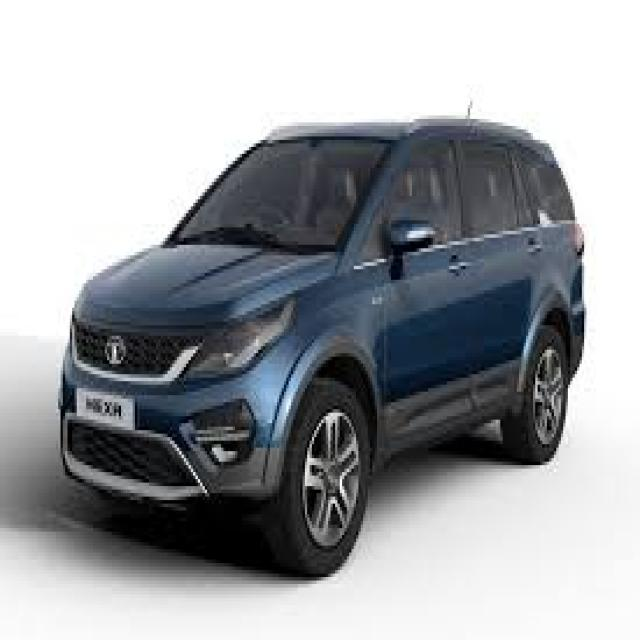SUV: (49, 108, 580, 576)
